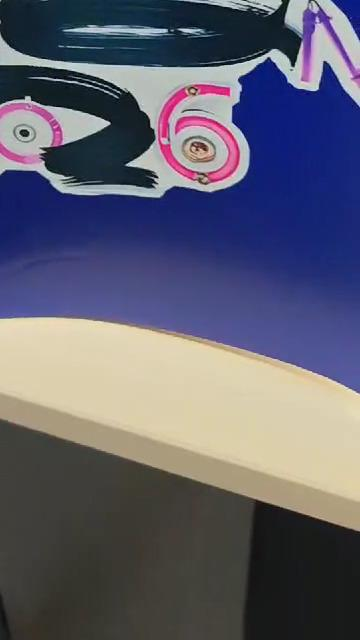B_R1: (0, 0, 358, 305)
